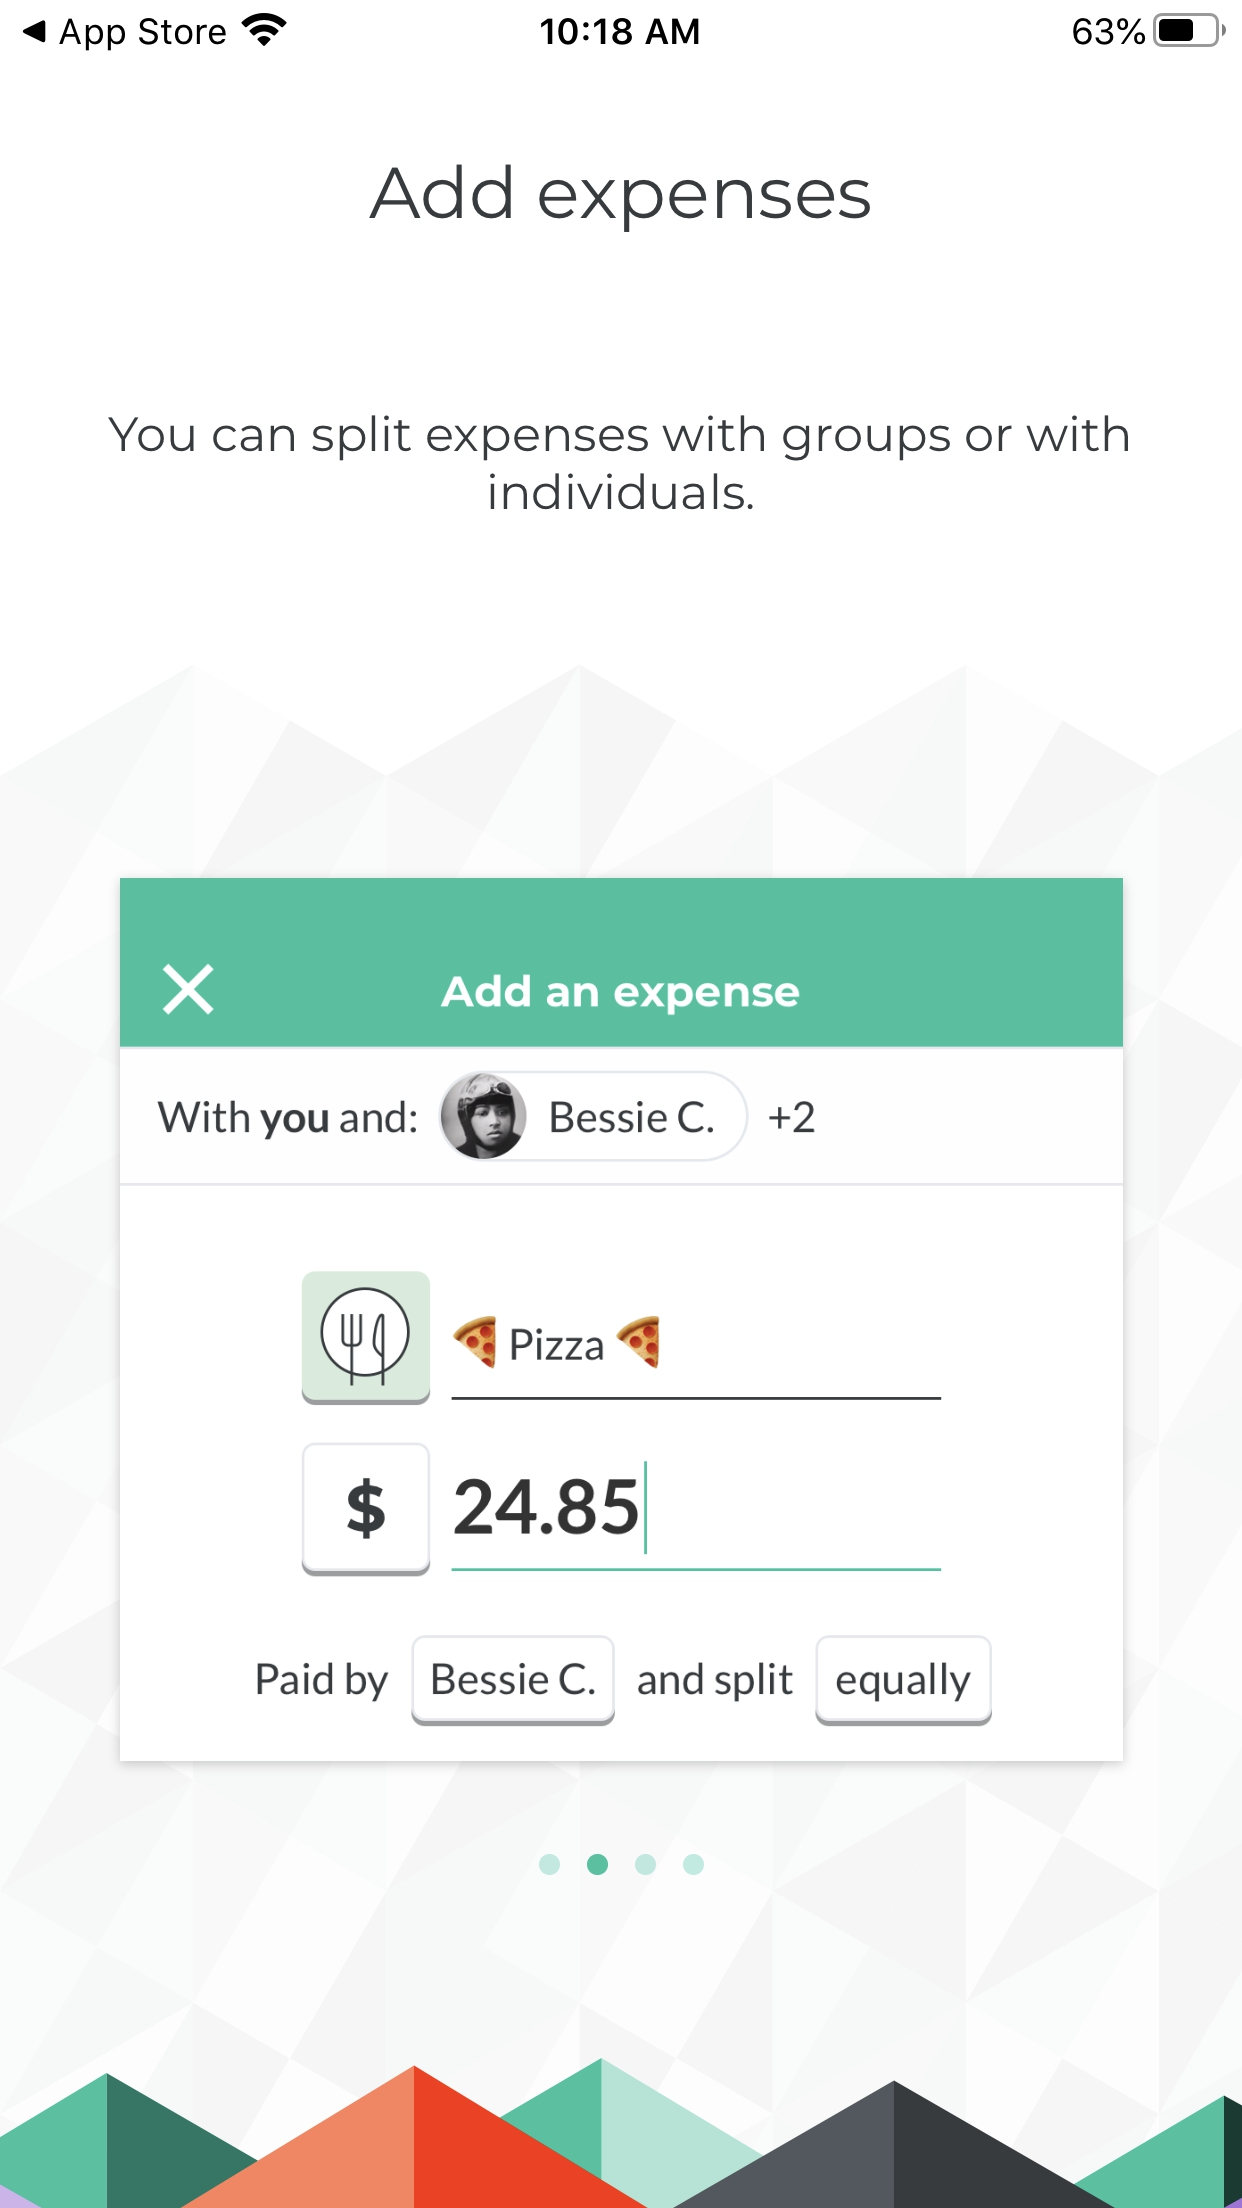Image: (120, 878, 1124, 1761), (2, 2072, 1242, 2206)
PageIndicator: (538, 1855, 704, 1876)
Text: (108, 416, 1128, 510), (369, 165, 870, 232)
UpperTaskBar: (2, 2, 1242, 52)
